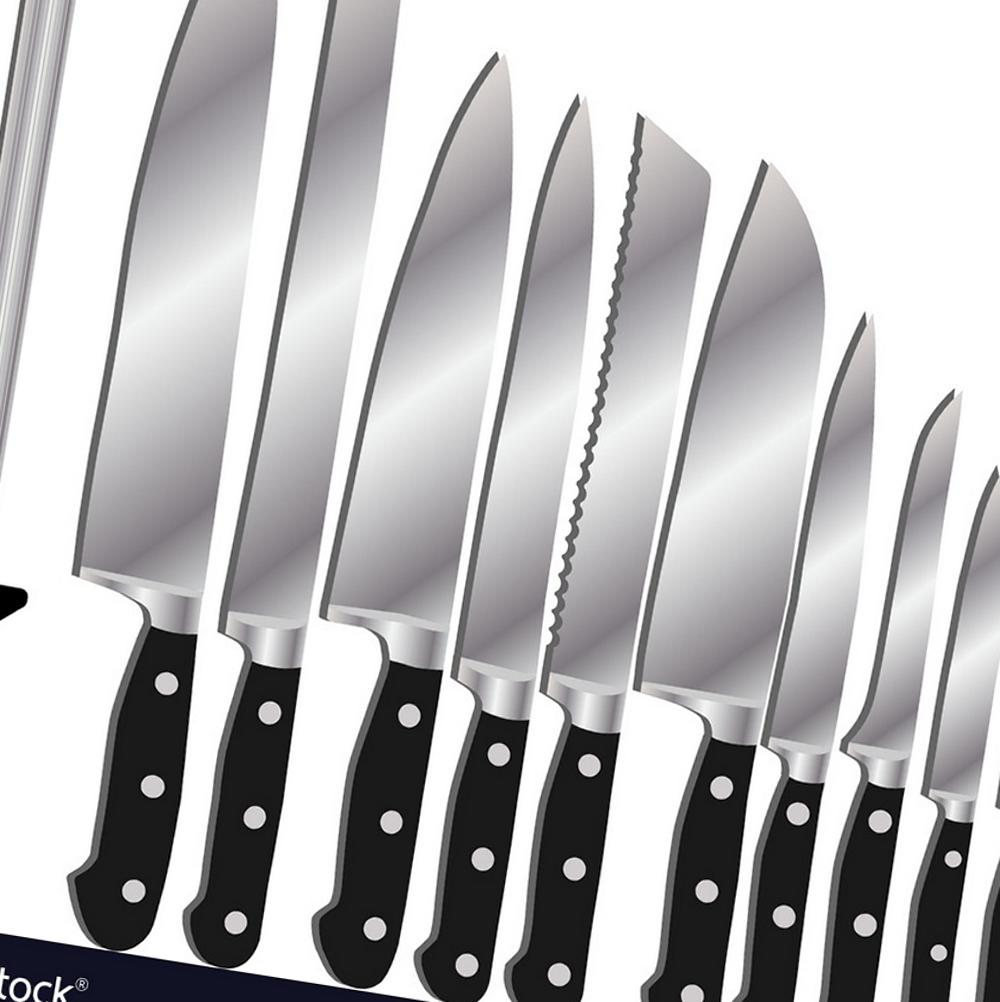knife: (76, 2, 276, 947), (318, 51, 515, 993), (738, 316, 877, 1002)
